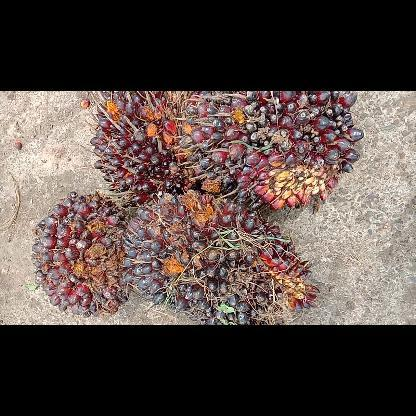Kurang masak: (121, 186, 324, 324), (174, 90, 366, 214), (25, 186, 135, 318), (88, 91, 202, 209)
